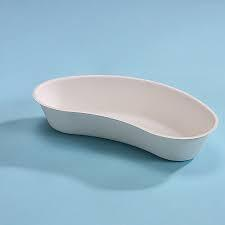Kidney Tray: (31, 70, 221, 165)
